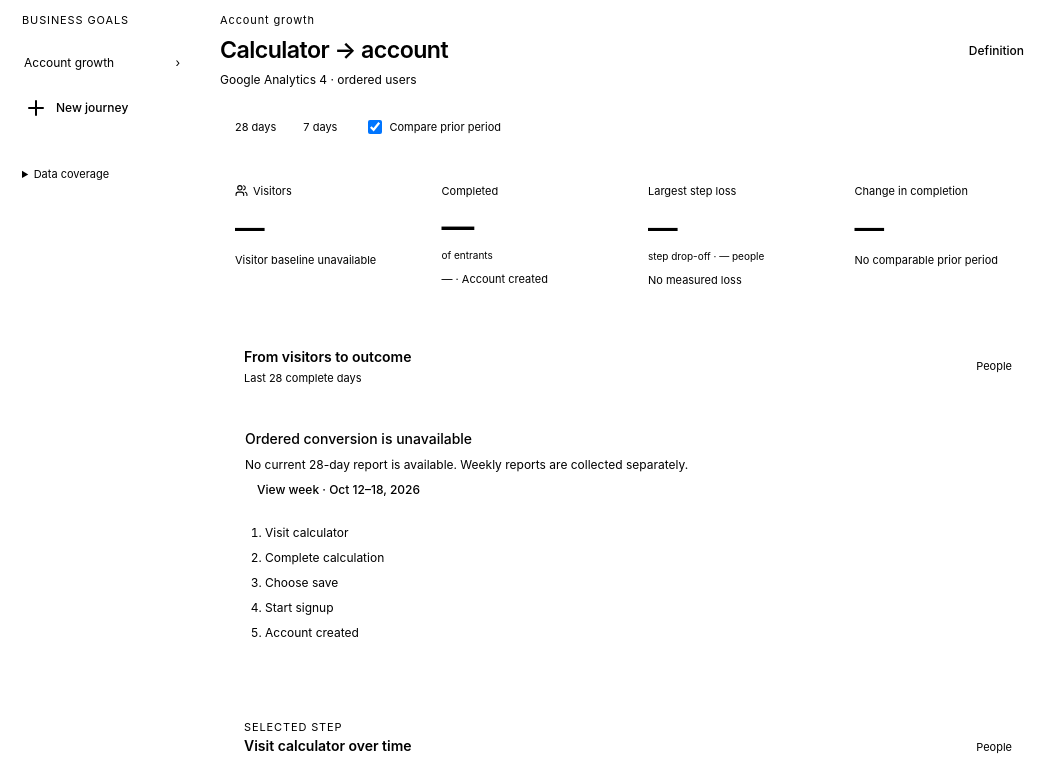
JourneyMonitor › opens available weekly counts explicitly when the current 7-day report is missing
Click the button "7 days" at (320, 127), box top-left (291, 112), bottom-right (350, 142)
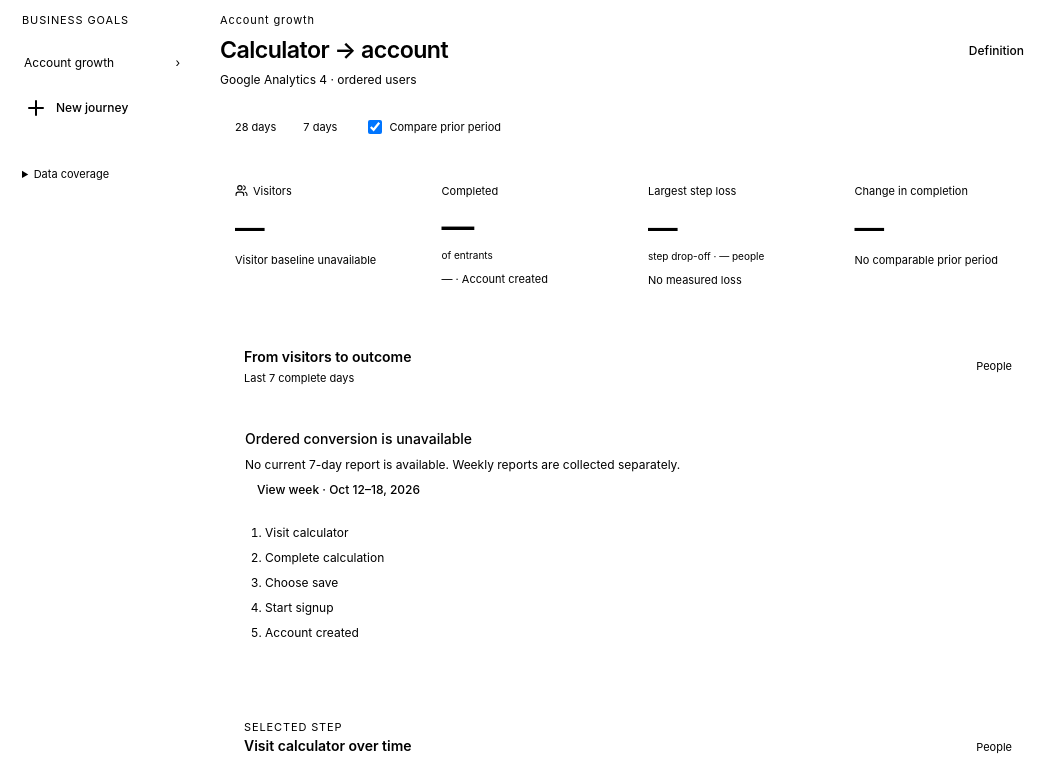
Click the button "View week · Oct 12–18, 2026" at (338, 490), box top-left (245, 474), bottom-right (432, 506)
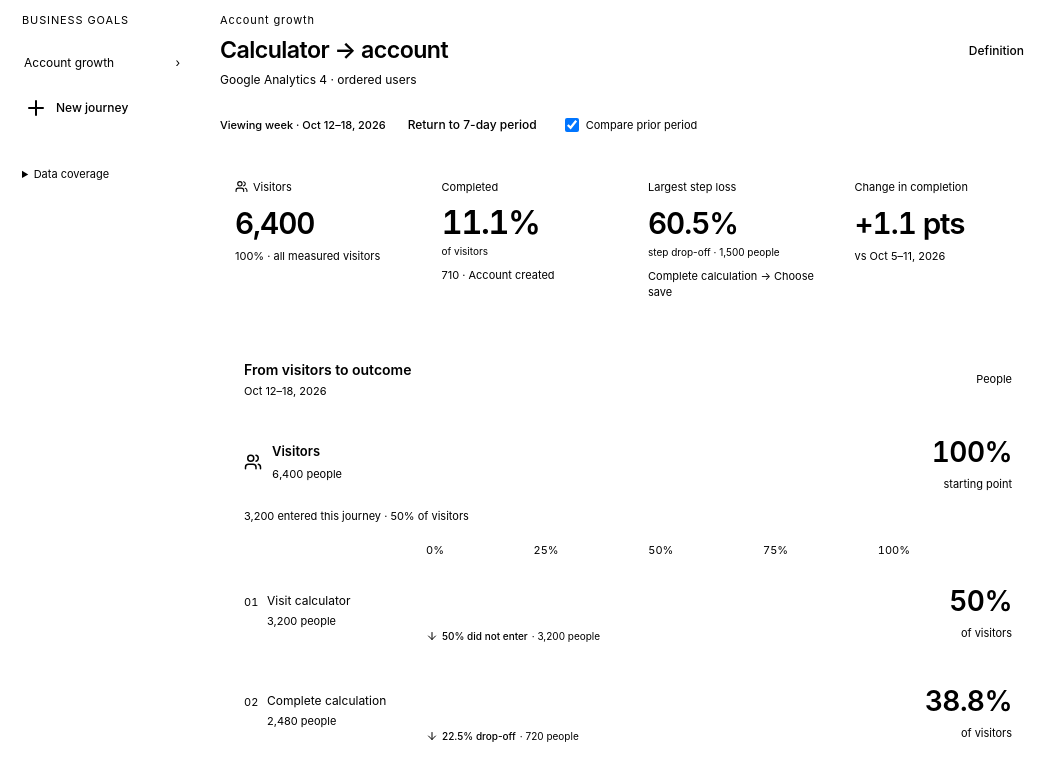
Check: the text "Viewing week · Oct 12–18, 2026" is shown, box top-left (220, 117), bottom-right (386, 134)
Check: the number of buttons with class "journey-step" is 5
Check: the button with class "journey-step" shows "3,200", box top-left (238, 563), bottom-right (1018, 659)
Click the button "Return to 7-day period" at (472, 125), box top-left (396, 109), bottom-right (549, 141)
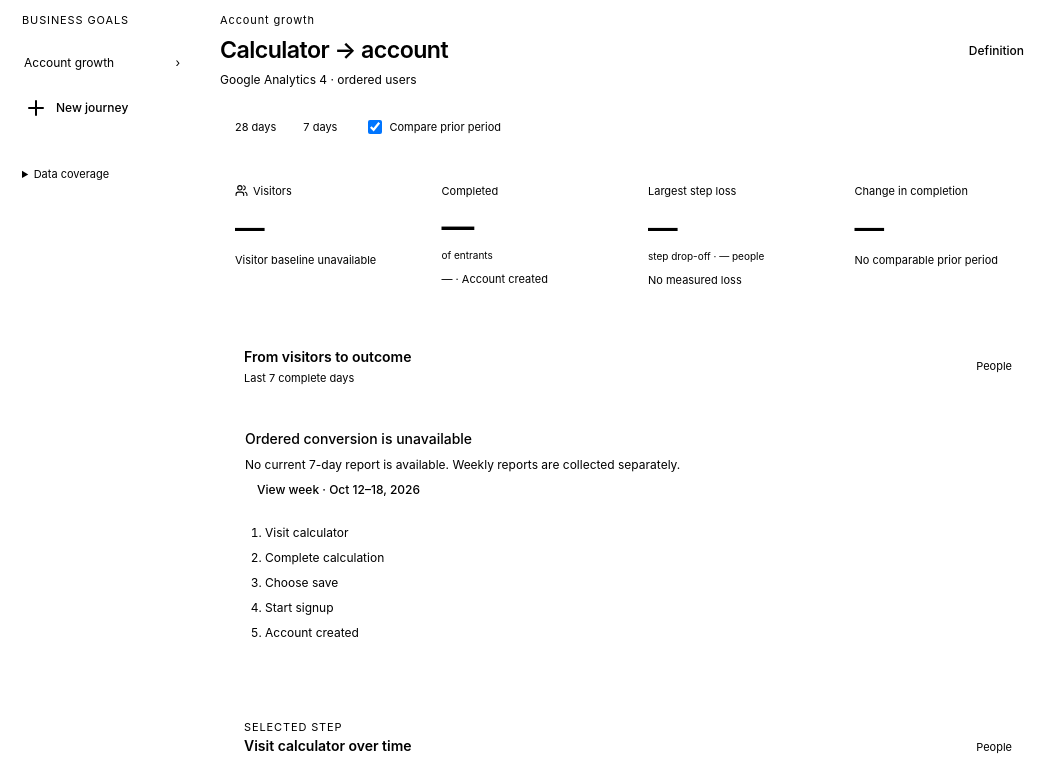
Check: no buttons with class "journey-step" are shown
